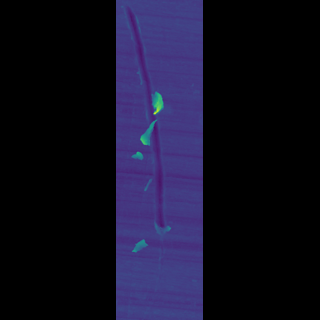Loch: (149, 1, 163, 238), (154, 119, 159, 146), (157, 89, 161, 113), (152, 237, 157, 255), (152, 150, 155, 160)
